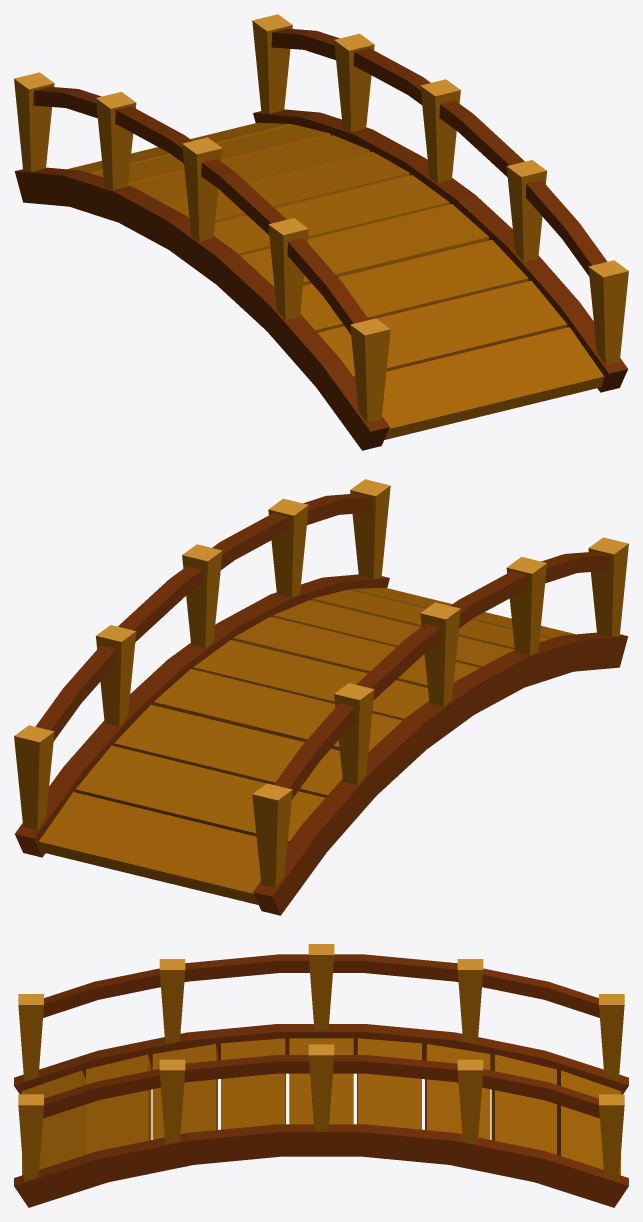
File: Bridge_01.fbx
3 renders of one model, top to bottom at view 1: azimuth 30°, elevation 25°; view 2: azimuth 150°, elevation 25°; view 3: azimuth 270°, elevation 25°, orthographic. The views are drawn at different scales.
Parts seen in each view (by area): view 1: Bridge_01; view 2: Bridge_01; view 3: Bridge_01.
Boxes of the visible parts, bbox=[...] form: Bridge_01: bbox=[14, 14, 628, 450]; Bridge_01: bbox=[14, 479, 628, 915]; Bridge_01: bbox=[14, 944, 628, 1207].
Bounding box in the file's own units: 205 × 132 × 479.
Materials: 1 (1 with a texture image).
